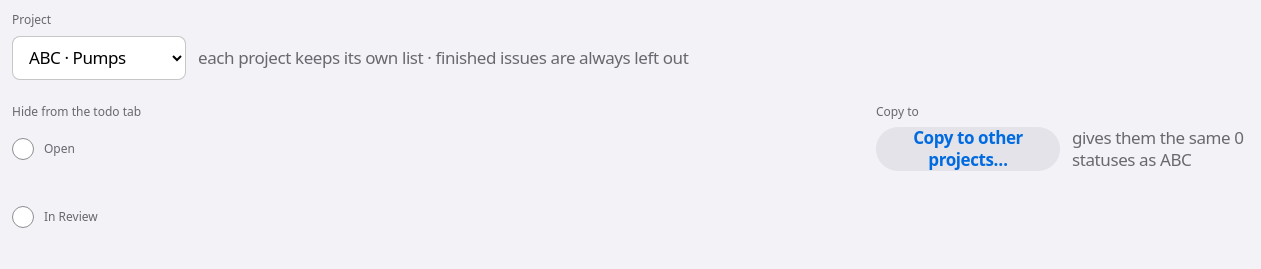
copying to other projects › backs out on Cancel
Expected: the checkbox labelled "Open" is shown, x1=12 y1=138 x2=34 y2=160
Step 1. Click the button "Copy to other projects…" → (968,149), box x1=876 y1=127 x2=1060 y2=171
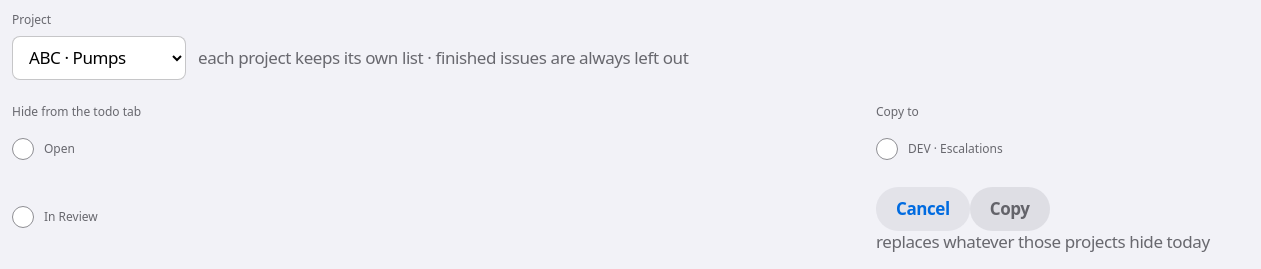
Step 2. Click the button "Cancel" → (923,209), box x1=876 y1=187 x2=970 y2=231
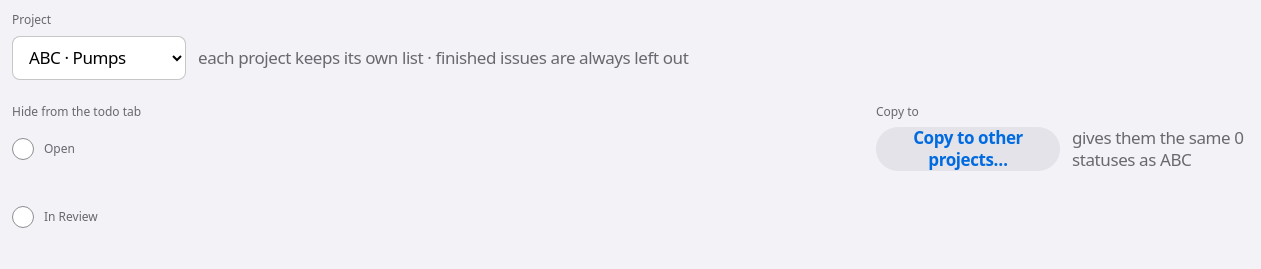
Expected: the text labelled "DEV · Escalations" is gone
